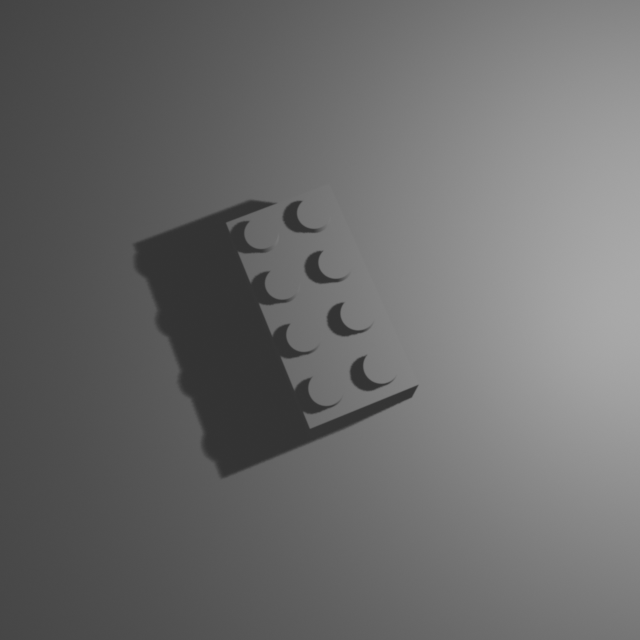lego_2x4: (225, 179, 420, 439)
